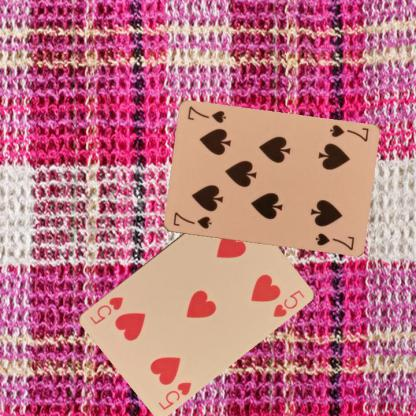5h: (155, 378, 193, 412)
7s: (327, 122, 370, 143), (170, 210, 212, 230)
